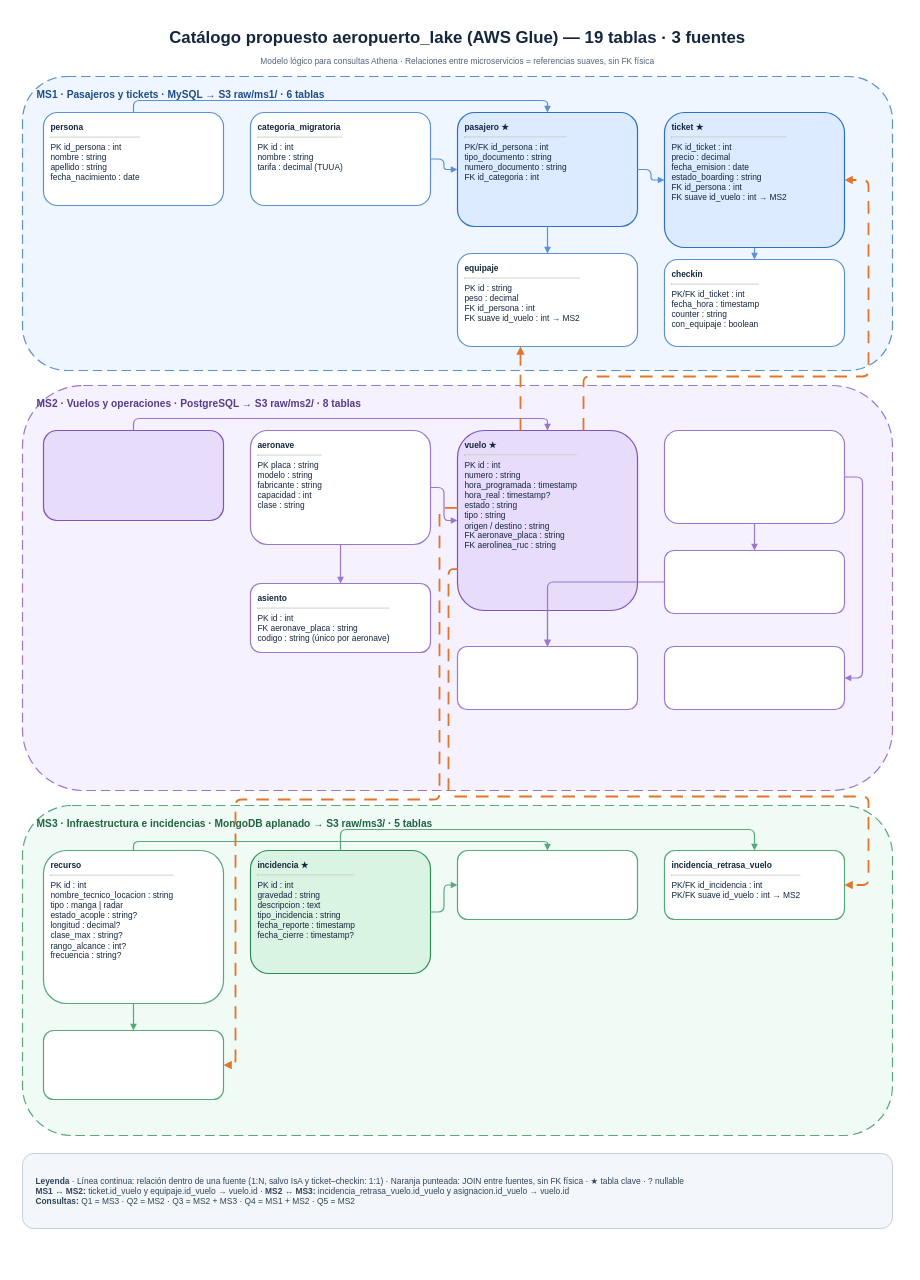
Some shapes in this 920 by 1280 pixel diagram are drawn without their labels. The shapes that lost their labels are listed below. From the top down, each one's centre as x and y in pixels, then its label:
[133,475]: aerolinea ★ PK ruc : string nombre : string alianza : string
[754,477]: empleado PK id : int nombre : string apellido : string fecha_nacimiento : date
[754,582]: tripulacion PK/FK empleado_id : int num_licencia : string
[547,678]: opera_tripulacion PK/FK tripulacion_empleado_id : int PK/FK vuelo_id : int
[754,678]: operativo_tierra PK/FK empleado_id : int area_operativa : string
[547,885]: incidencia_afecta_recurso PK/FK id_incidencia : int PK/FK id_recurso : int
[133,1065]: asignacion PK/FK suave id_vuelo : int → MS2 PK/FK id_recurso : int
